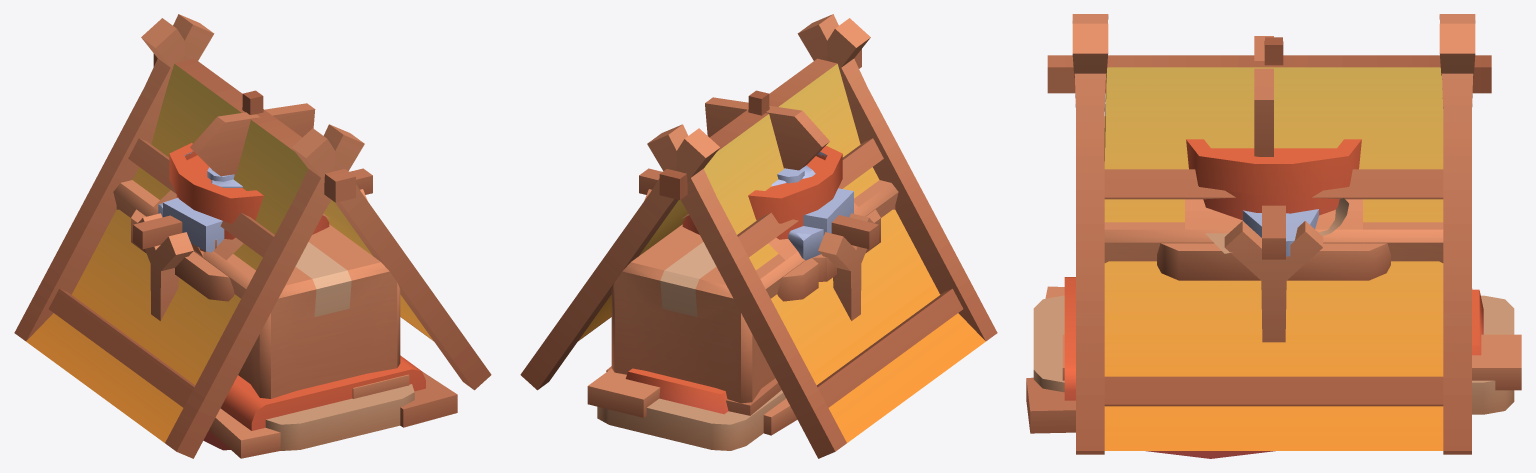
Rendered from kenney-survival.glb.
3 renders of one model, left to right at view 1: azimuth 30°, elevation 25°; view 2: azimuth 150°, elevation 25°; view 3: azimuth 270°, elevation 25°, orthographic. The views are drawn at different scales.
Visible parts, largest first — view 1: tent-canvas, box-large, bedroll, blanket, resource-planks, campfire-stand, barrel-open, signpost-single, signpost, workbench, workbench-anvil, barrel (+1 smaller); view 2: tent-canvas, box-large, bedroll, campfire-stand, resource-planks, barrel-open, signpost, signpost-single, workbench, workbench-anvil, barrel, hammer; view 3: tent-canvas, barrel-open, box-large, workbench, campfire-stand, bedroll, resource-planks, blanket, box-open, signpost, signpost-single, workbench-anvil (+2 smaller).
Part boxes in pixels (left/top/right/bottom): tent-canvas: left=14, top=14, right=491, bottom=458; box-large: left=113, top=180, right=400, bottom=398; bedroll: left=265, top=384, right=414, bottom=450; blanket: left=203, top=355, right=425, bottom=450; resource-planks: left=209, top=371, right=457, bottom=458; campfire-stand: left=133, top=168, right=372, bottom=320; barrel-open: left=169, top=143, right=329, bottom=239; signpost-single: left=198, top=90, right=315, bottom=176; signpost: left=190, top=91, right=314, bottom=175; workbench: left=131, top=209, right=234, bottom=301; workbench-anvil: left=163, top=198, right=224, bottom=252; barrel: left=170, top=151, right=259, bottom=222; tent-canvas: left=520, top=14, right=997, bottom=458; box-large: left=611, top=180, right=898, bottom=403; bedroll: left=597, top=368, right=786, bottom=450; campfire-stand: left=639, top=168, right=878, bottom=320; resource-planks: left=587, top=366, right=797, bottom=435; barrel-open: left=682, top=146, right=842, bottom=239; signpost: left=705, top=90, right=829, bottom=170; signpost-single: left=705, top=91, right=820, bottom=157; workbench: left=777, top=209, right=880, bottom=301; workbench-anvil: left=803, top=188, right=853, bottom=235; barrel: left=766, top=153, right=831, bottom=208; hammer: left=788, top=226, right=830, bottom=260; tent-canvas: left=1047, top=14, right=1491, bottom=454; barrel-open: left=1186, top=139, right=1361, bottom=220; box-large: left=1104, top=161, right=1443, bottom=262; workbench: left=1157, top=243, right=1390, bottom=280; campfire-stand: left=1224, top=205, right=1323, bottom=342; bedroll: left=1033, top=289, right=1514, bottom=414; resource-planks: left=1026, top=286, right=1521, bottom=433; blanket: left=1064, top=277, right=1275, bottom=458; box-open: left=1185, top=199, right=1362, bottom=243; signpost: left=1254, top=37, right=1283, bottom=141; signpost-single: left=1254, top=36, right=1283, bottom=156; workbench-anvil: left=1243, top=209, right=1318, bottom=256.
Bounding box in the file's own units: 0.5608 × 0.5414 × 0.626.
1 material, 1 textured.
